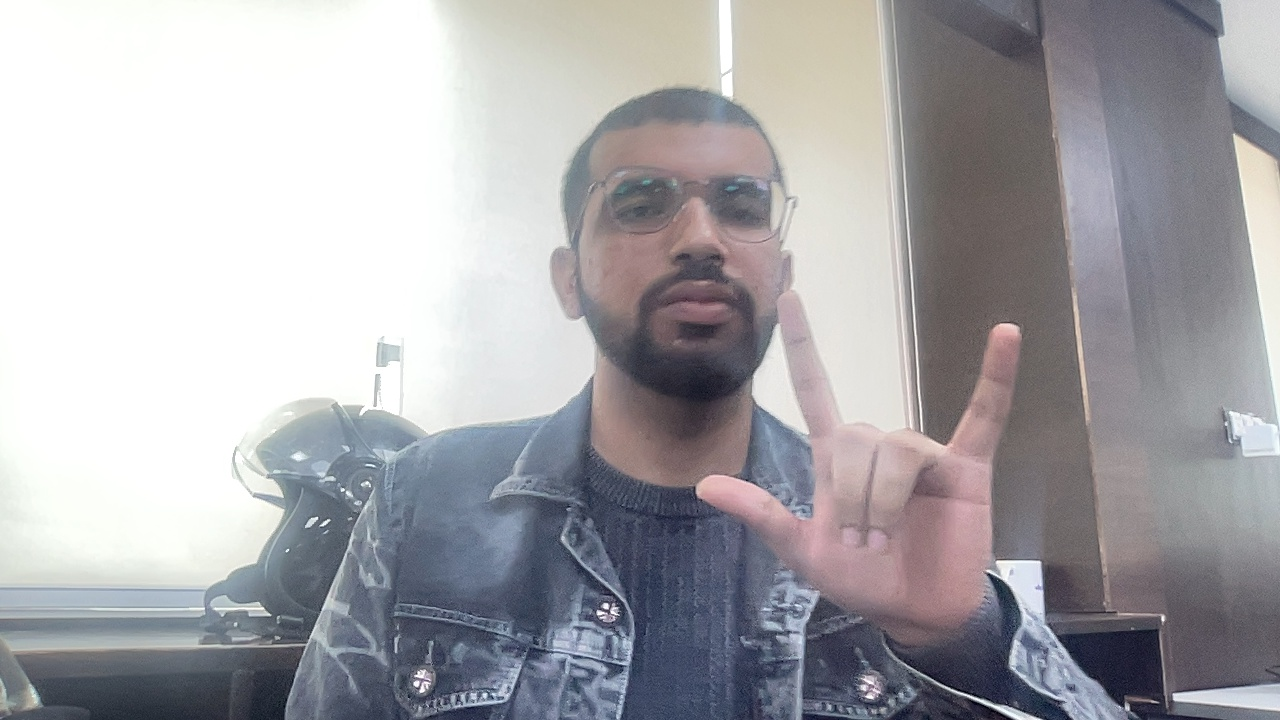I Love You: (642, 270, 1119, 667)
